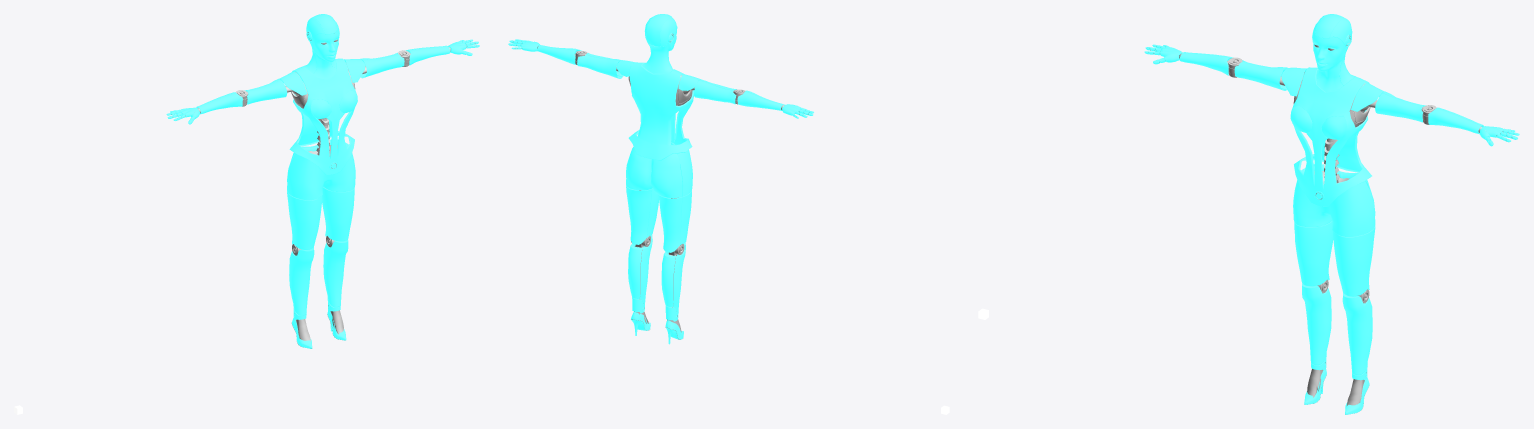
File: holowoman.glb
The picture shows the model from 3 angles, left to right: view 1: azimuth 30°, elevation 25°; view 2: azimuth 150°, elevation 25°; view 3: azimuth 330°, elevation 25°; orthographic projection. The views are drawn at different scales.
Parts seen in each view (by area): view 1: corpo_Cubo.001, esqueleto_Cubo.013; view 2: corpo_Cubo.001, esqueleto_Cubo.013; view 3: corpo_Cubo.001, esqueleto_Cubo.013.
Part boxes in pixels (bbox=[...]): corpo_Cubo.001: bbox=[166, 14, 479, 348]; esqueleto_Cubo.013: bbox=[198, 47, 450, 341]; corpo_Cubo.001: bbox=[508, 14, 813, 344]; esqueleto_Cubo.013: bbox=[537, 46, 784, 332]; corpo_Cubo.001: bbox=[1144, 14, 1519, 414]; esqueleto_Cubo.013: bbox=[1179, 53, 1485, 405].
Bounding box in the file's own units: 161 × 111 × 17.21.
